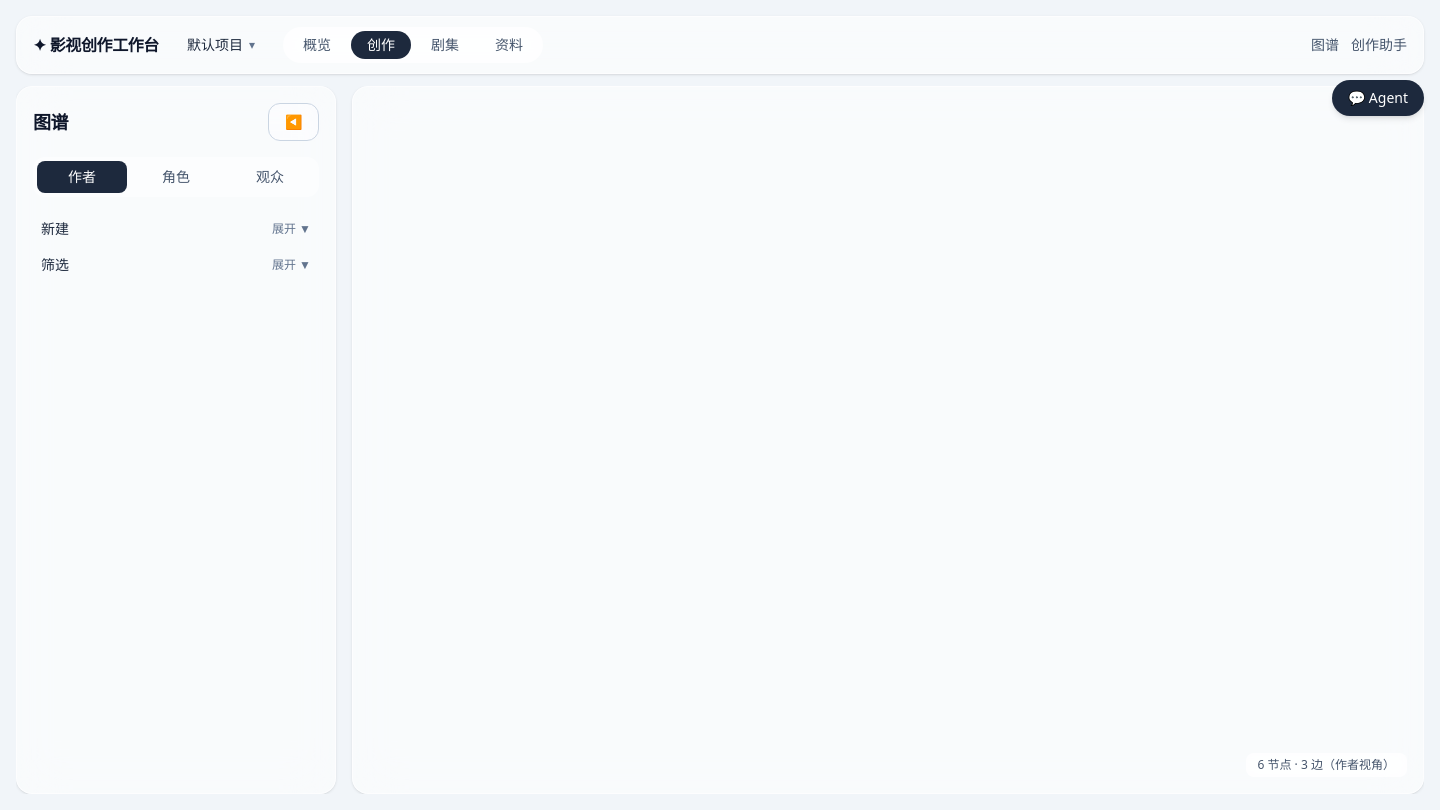
Test: 视角切换集成（F06 I1–I5） › I2: 切「观众」→ 请求 perspective=audience → 图刷新 4 节点 1 边
The width and height of the screenshot is (1440, 810).
Expected: the text with test id "graph-stats" shows "6 节点 · 3 边", x1=1246 y1=753 x2=1407 y2=777
// 设计依据: 主路径—视角切换重载
Click the button with test id "perspective-audience" at (270, 177), box x1=225 y1=161 x2=315 y2=193
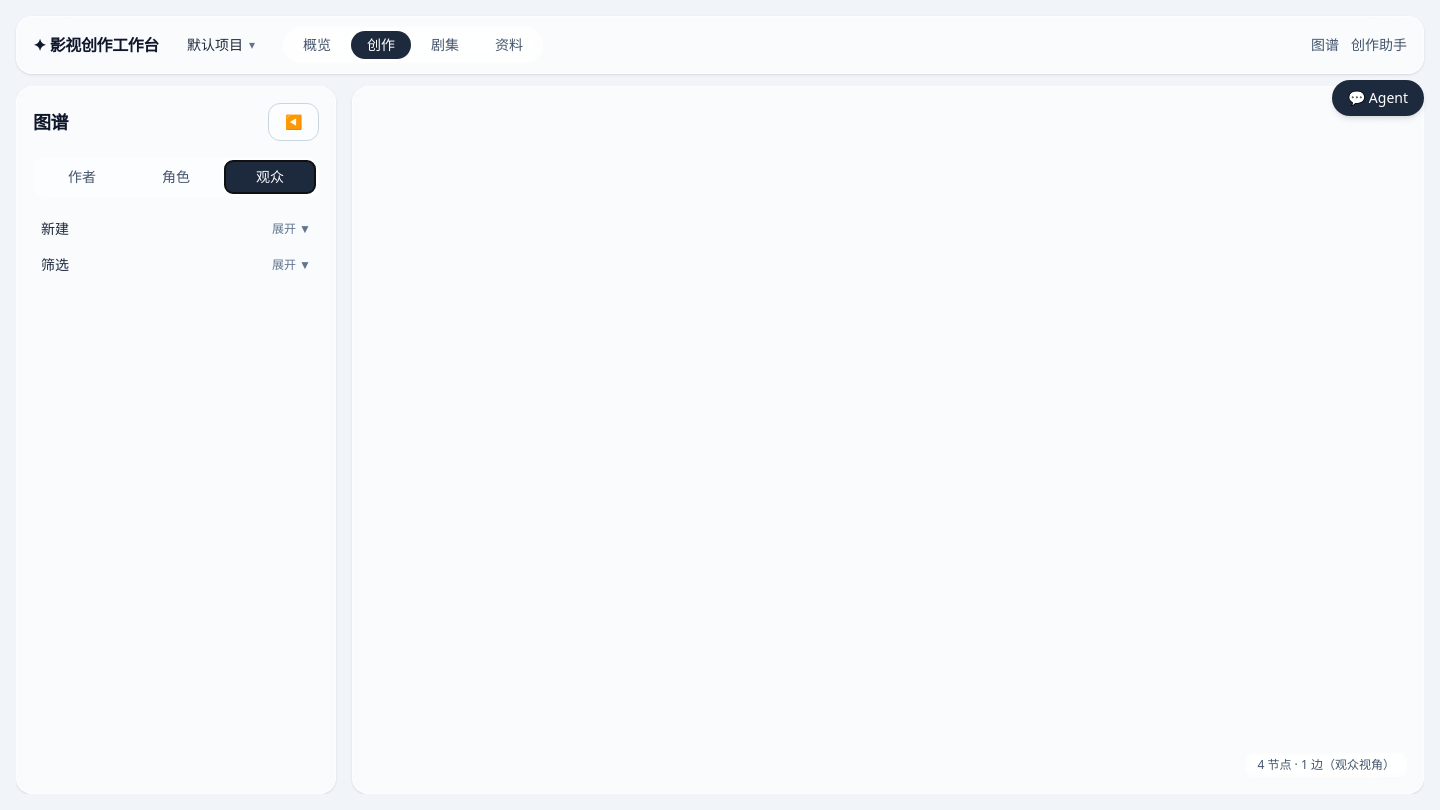
Expected: the text with test id "graph-stats" shows "4 节点 · 1 边", x1=1246 y1=753 x2=1407 y2=777
